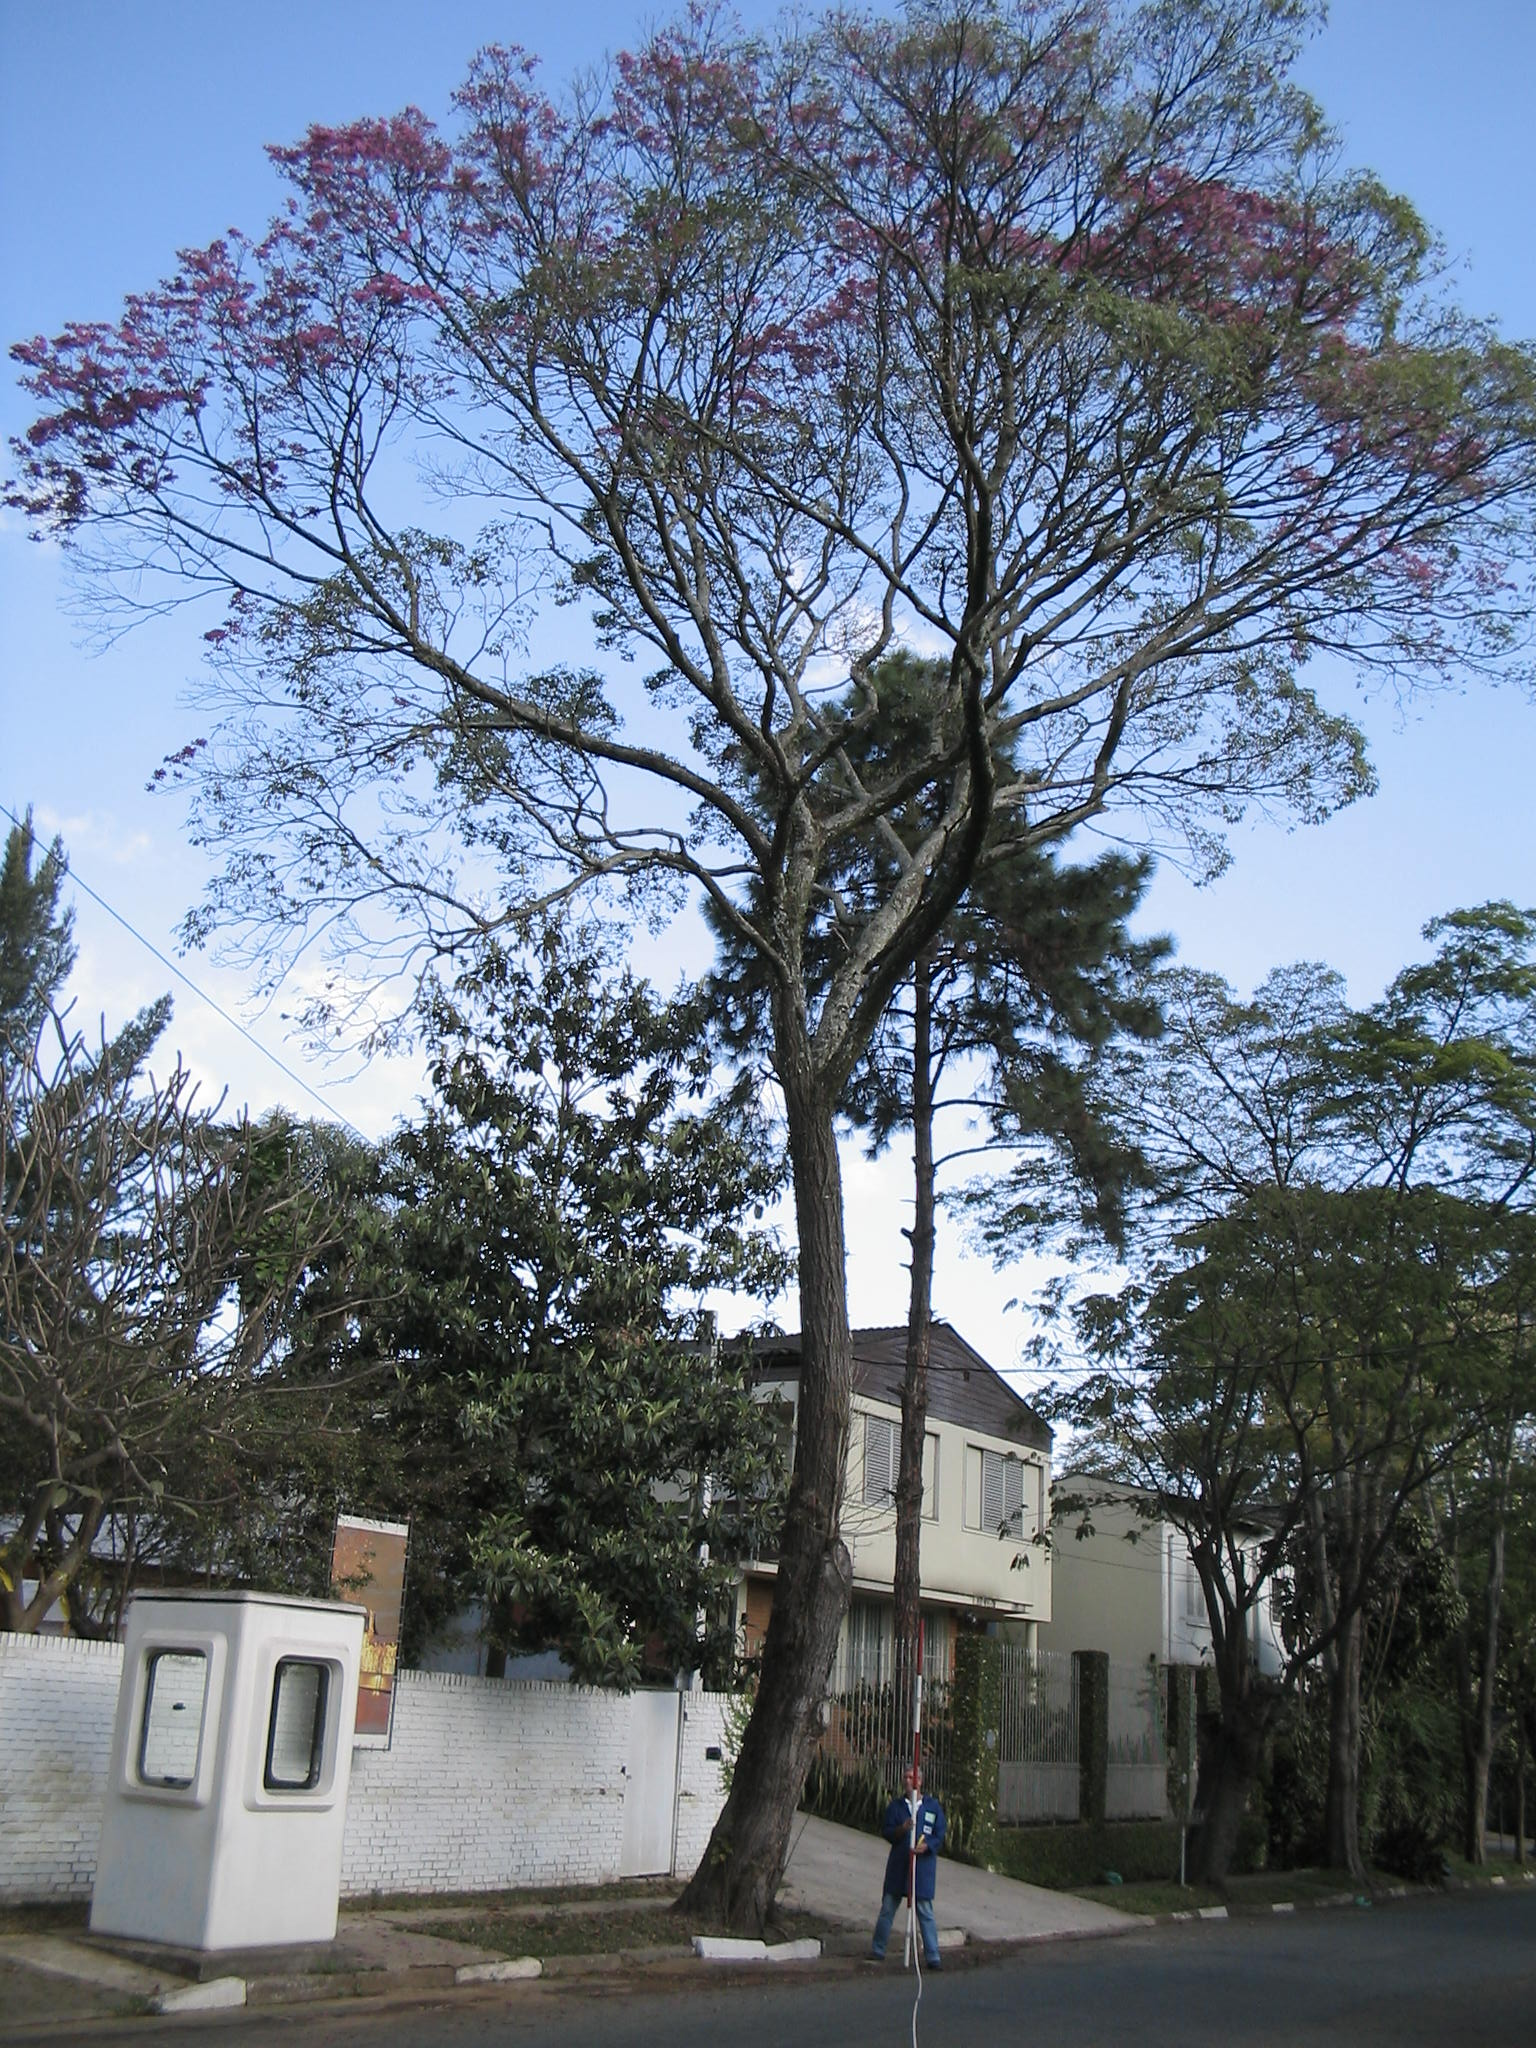crown: (19, 16, 1515, 1050)
stem: (670, 1106, 887, 1942)
stick: (891, 1621, 941, 1966)
tree: (10, 13, 1515, 1945)
